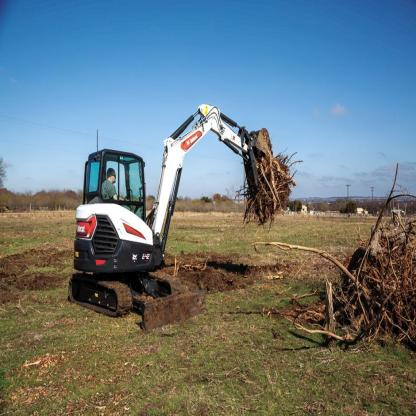excavator: (60, 80, 305, 348)
